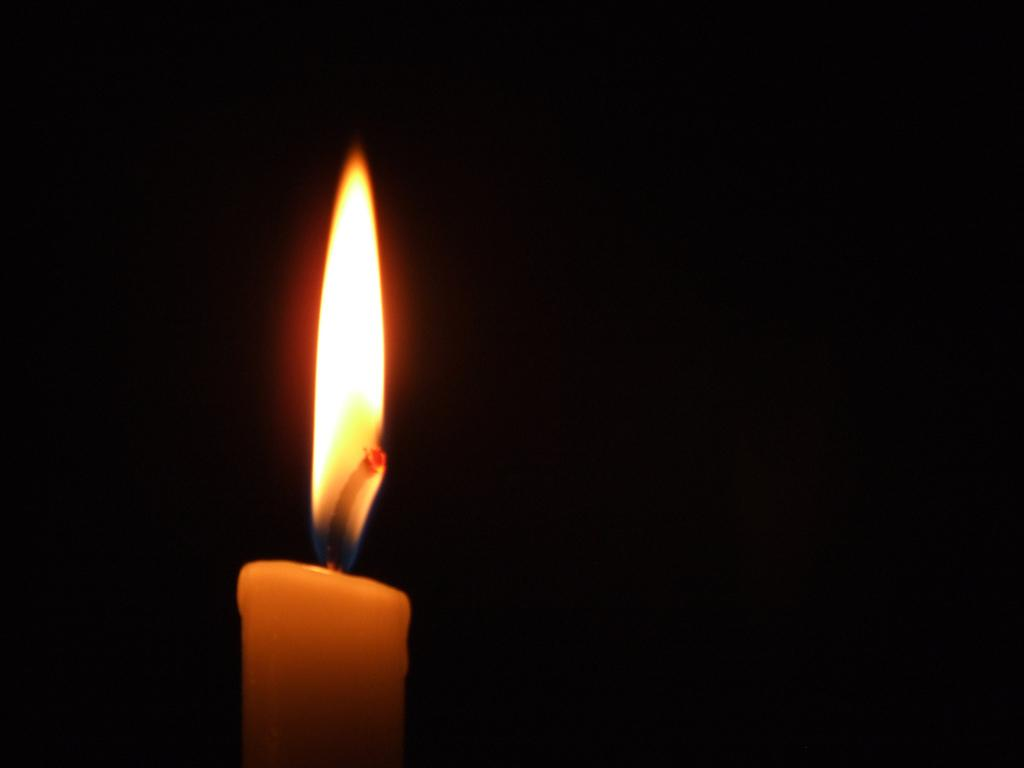fire: (308, 210, 400, 526)
